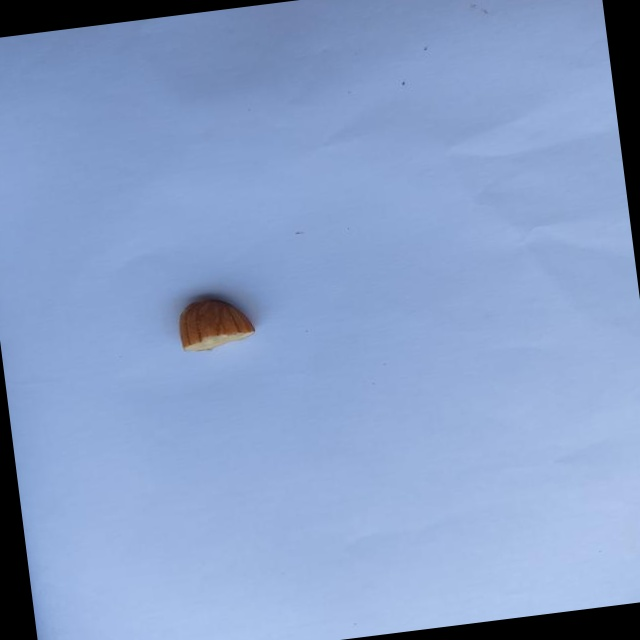grade4: (168, 286, 266, 359)
